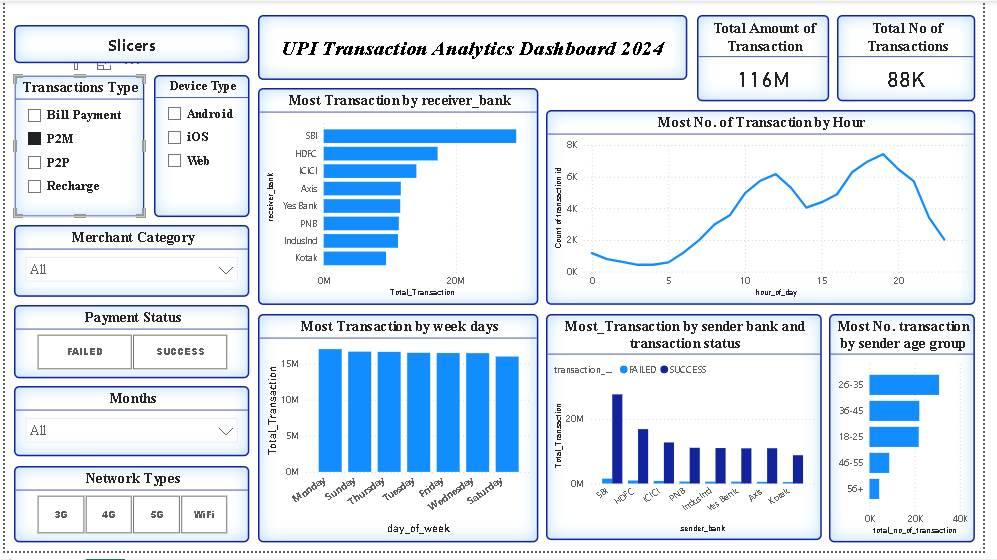

The page's visual inventory and layout, read from the dashboard file:
{"tool":"powerbi","page":{"name":"Page 1","canvas":[1280,720],"ordinal":0},"visuals":[{"type":"card","title":"Total Amount of Transaction ","fields":{"Values":["upi_transactions_2024.Total_Transaction"]},"box":[905.9,18.3,172.8,112.6],"z":0},{"type":"slicer","title":"Payment Status","fields":{"Values":["upi_transactions_2024.transaction_status"]},"box":[12.4,397.8,308.3,96.3],"z":1000},{"type":"slicer","title":"Merchant Category","fields":{"Values":["upi_transactions_2024.merchant_category"]},"box":[12.4,293.2,308.3,93.6],"z":2000},{"type":"slicer","title":"Transactions Type","fields":{"Values":["upi_transactions_2024.transaction type"]},"box":[12.4,96.3,170.7,185.8],"z":3000},{"type":"slicer","title":"Network Types","fields":{"Values":["upi_transactions_2024.network_type"]},"box":[12.4,608.3,308.3,100.5],"z":4000},{"type":"slicer","title":"Device Type","fields":{"Values":["upi_transactions_2024.device_type"]},"box":[195.4,96.3,125.2,185.8],"z":5000},{"type":"card","title":"Total No of Transactions","fields":{"Values":["upi_transactions_2024.total_no_of_transaction"]},"box":[1089.2,18.3,180.7,112.6],"z":6000},{"type":"columnChart","title":"Most Transaction by week days","fields":{"Category":["upi_transactions_2024.day_of_week"],"Y":["upi_transactions_2024.total_no_of_transaction"]},"box":[331.7,410.2,367.5,298.7],"z":7000},{"type":"barChart","title":"Most Transaction by receiver_bank","fields":{"Category":["upi_transactions_2024.receiver_bank"],"Y":["upi_transactions_2024.Total_Transaction"]},"box":[331.7,114.2,367.5,283.5],"z":8000},{"type":"barChart","title":"Most No. transaction by sender age group","fields":{"Y":["upi_transactions_2024.total_no_of_transaction"],"Category":["upi_transactions_2024.sender_age_group"]},"box":[1079.1,410.2,191.3,298.7],"z":9000},{"type":"clusteredColumnChart","title":"Most_Transaction by sender bank and transaction status","fields":{"Category":["upi_transactions_2024.sender_bank"],"Series":["upi_transactions_2024.transaction_status"],"Y":["upi_transactions_2024.Total_Transaction"]},"box":[708.8,410.2,360.6,295.9],"z":10000},{"type":"textbox","box":[331.7,17.9,561.5,85.3],"z":11000},{"type":"textbox","title":"Slicer","box":[12.4,31.7,308.3,49.5],"z":12000},{"type":"slicer","title":"Months","fields":{"Values":["upi_transactions_2024.month"]},"box":[12.4,503.7,308.3,92.2],"z":13000},{"type":"lineChart","title":"Most No. of Transaction  by Hour","fields":{"Y":["CountNonNull(upi_transactions_2024.transaction id)"],"Category":["upi_transactions_2024.hour_of_day"]},"box":[708.8,143.1,561.5,254.6],"z":14000}]}

Visuals, with their boxes in screenshot pixels (x1, y1, x2, y2), scaled from the page's 1280x720 canvas onto the 997x560 screenshot:
"Total Amount of Transaction " card: locate(706, 14, 840, 102)
"Payment Status" slicer: locate(10, 309, 250, 384)
"Merchant Category" slicer: locate(10, 228, 250, 301)
"Transactions Type" slicer: locate(10, 75, 143, 219)
"Network Types" slicer: locate(10, 473, 250, 551)
"Device Type" slicer: locate(152, 75, 250, 219)
"Total No of Transactions" card: locate(848, 14, 989, 102)
"Most Transaction by week days" columnChart: locate(258, 319, 545, 551)
"Most Transaction by receiver_bank" barChart: locate(258, 89, 545, 309)
"Most No. transaction by sender age group" barChart: locate(841, 319, 990, 551)
"Most_Transaction by sender bank and transaction status" clusteredColumnChart: locate(552, 319, 833, 549)
textbox: locate(258, 14, 696, 80)
"Slicer" textbox: locate(10, 25, 250, 63)
"Months" slicer: locate(10, 392, 250, 463)
"Most No. of Transaction  by Hour" lineChart: locate(552, 111, 989, 309)
